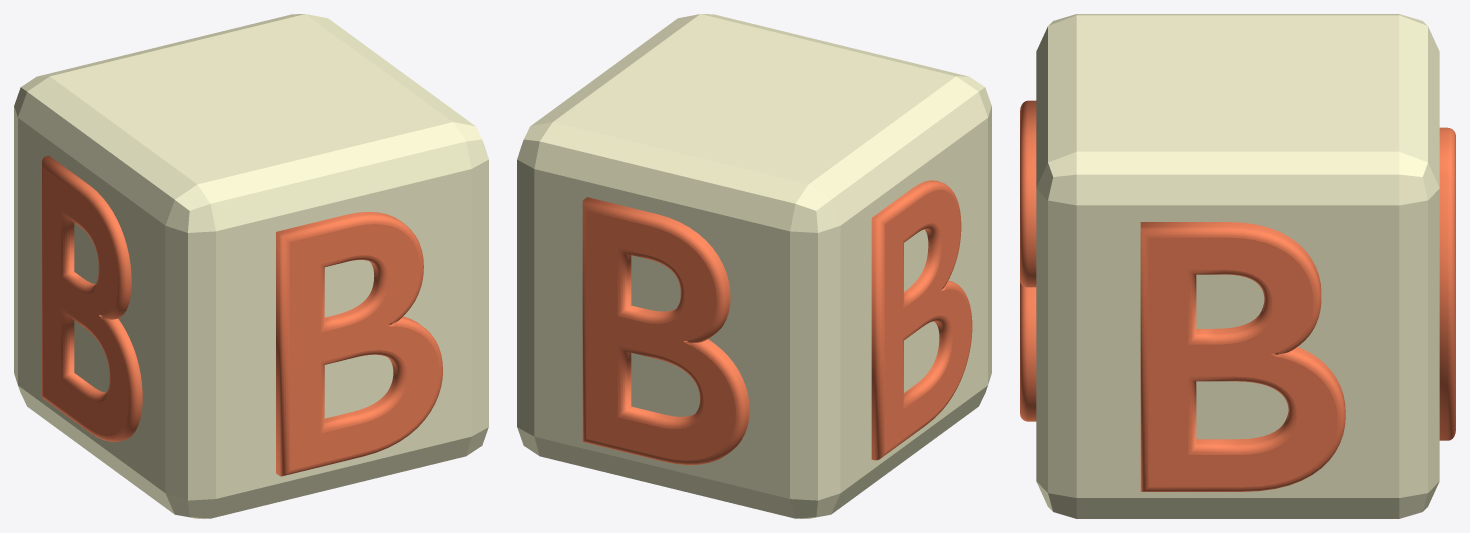
The picture shows the model from 3 angles, left to right: view 1: azimuth 30°, elevation 25°; view 2: azimuth 150°, elevation 25°; view 3: azimuth 270°, elevation 25°; orthographic projection. The views are drawn at different scales.
Visible parts, largest first — view 1: B; view 2: B; view 3: B.
Part boxes in pixels (x1,y1,x2,y2): B: (14, 14, 488, 518); B: (517, 14, 991, 518); B: (1020, 14, 1455, 518).
Size of the model in its own units: 216 by 200 by 216.
